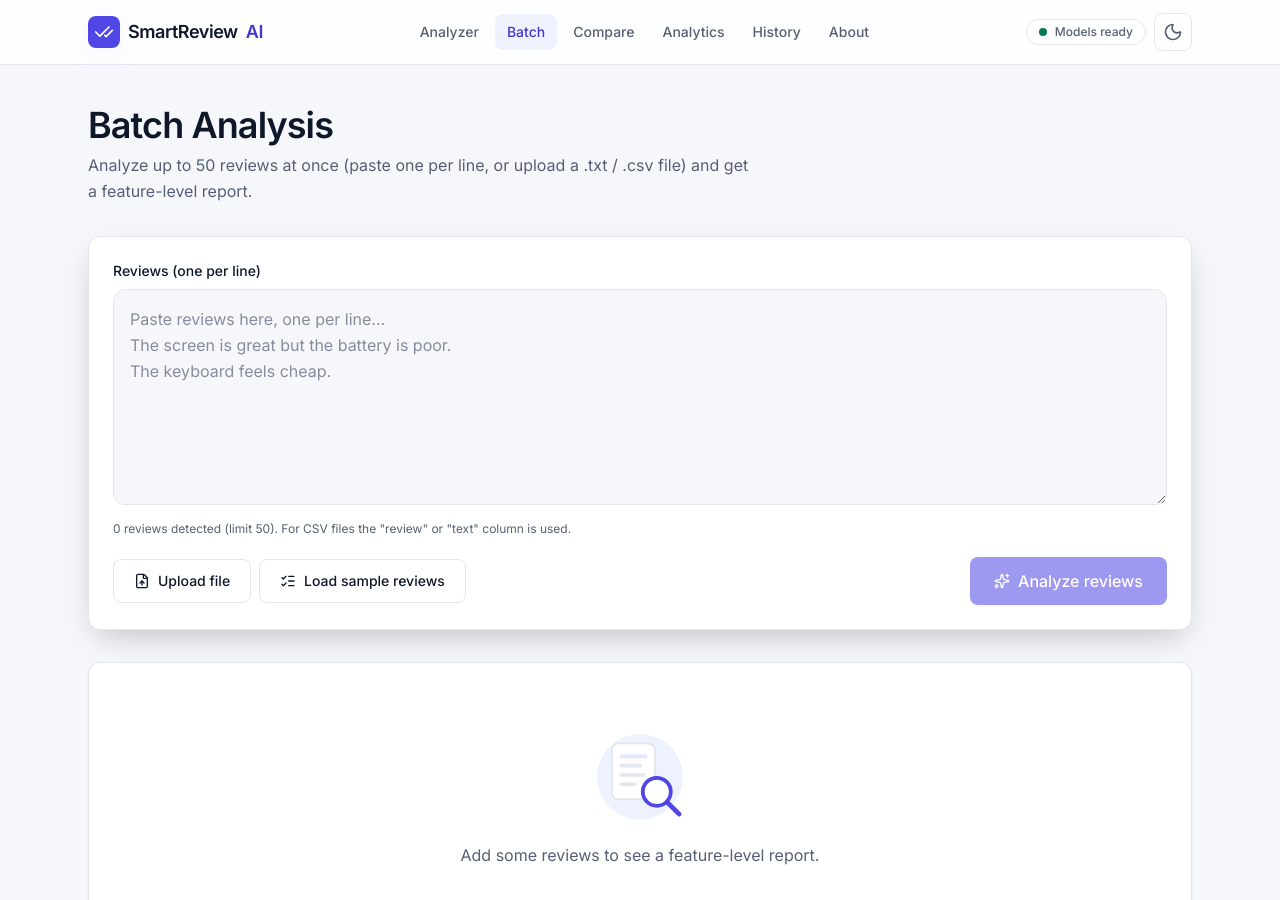
Test: Batch page › loads samples, analyzes them in ONE request, and shows the report
The image size is (1280, 900).
Expected: the heading "Batch Analysis" is shown, top-left (88, 103), bottom-right (333, 147)
Click the button "Load sample reviews": [362, 581] box top-left (259, 559), bottom-right (466, 603)
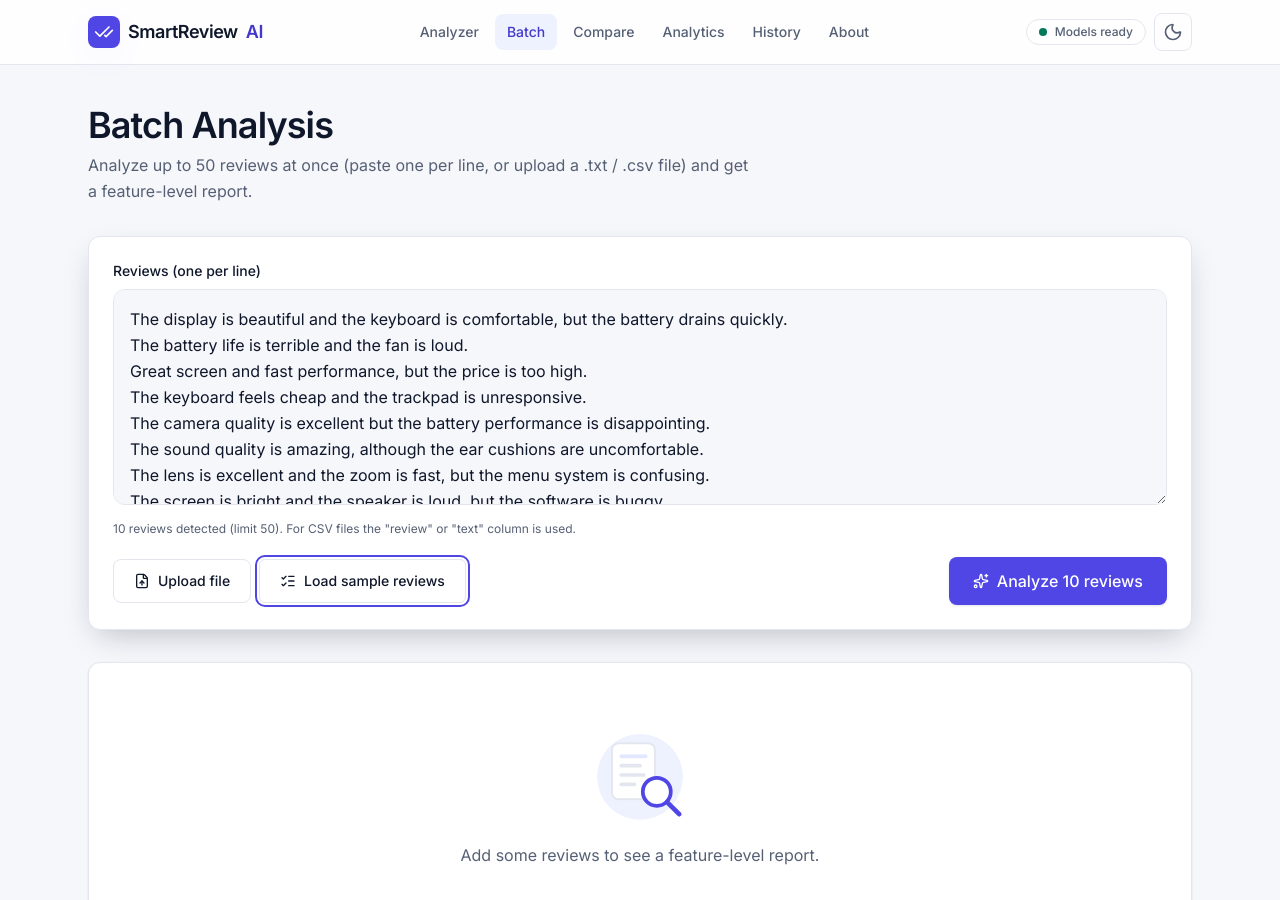
Expected: the text "10 reviews detected" is shown, top-left (113, 521), bottom-right (576, 536)
Click the button "Analyze 10 reviews": [1058, 581] box top-left (949, 557), bottom-right (1167, 605)
(page scrolled)
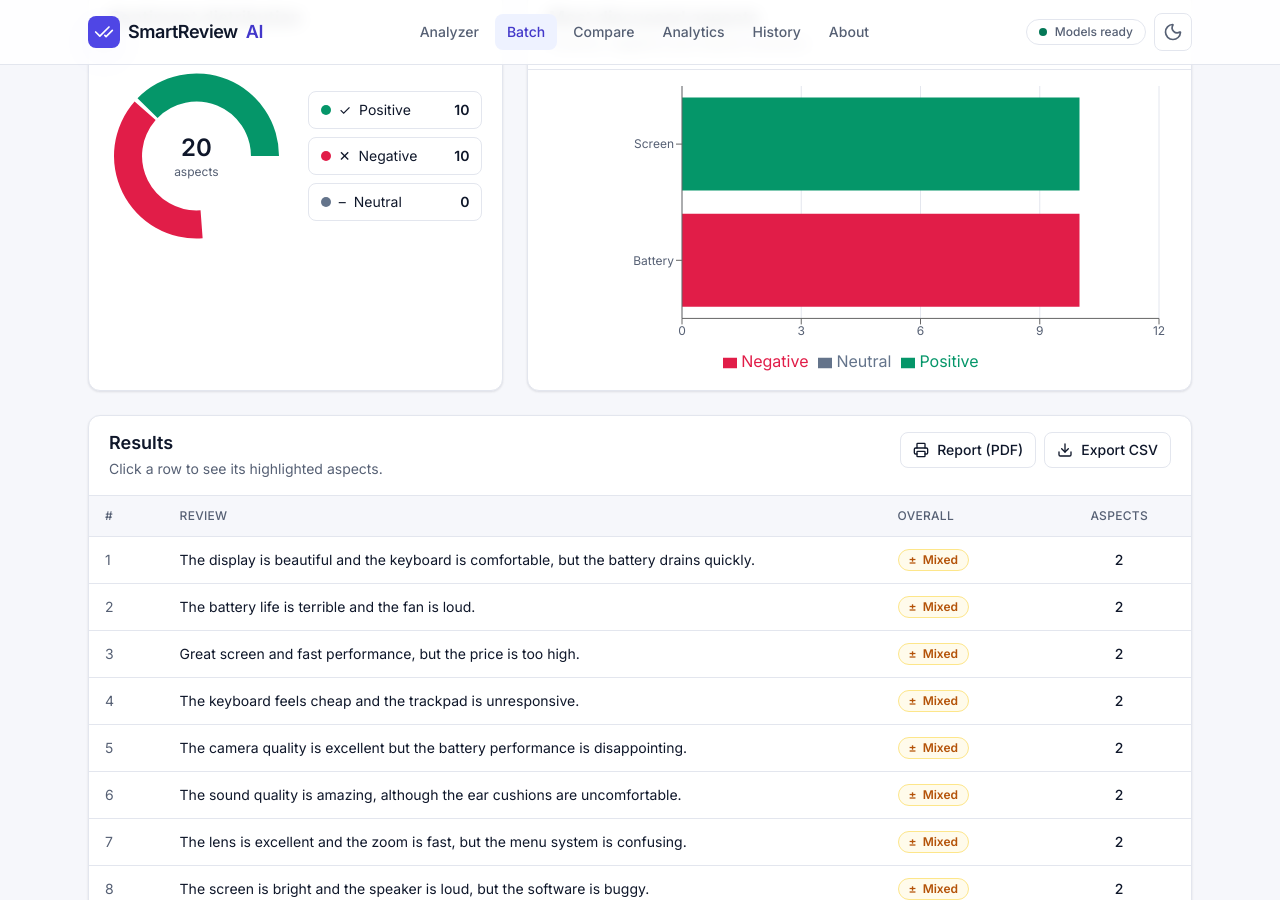
Expected: the button "Export CSV" is shown, top-left (1044, 432), bottom-right (1171, 468)
